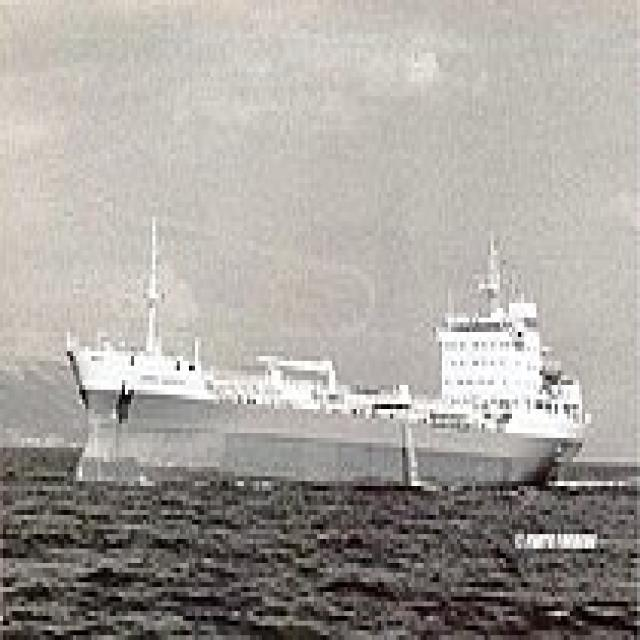Tanker: (61, 207, 582, 476)
